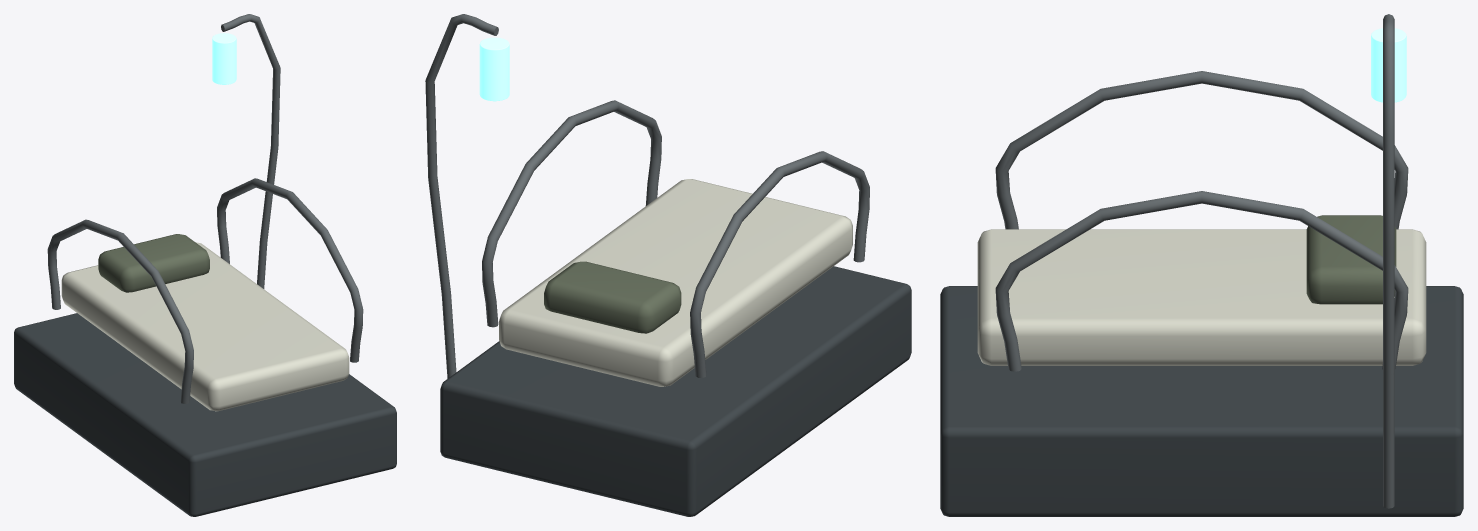
The model's file is map-medbay.glb.
3 views of the same model, side by side, from view 1: azimuth 30°, elevation 25°; view 2: azimuth 150°, elevation 25°; view 3: azimuth 270°, elevation 25° (orthographic). The views are drawn at different scales.
Parts seen in each view (by area): view 1: map-medbay; view 2: map-medbay; view 3: map-medbay.
Part boxes in pixels (left/top/right/bottom): map-medbay: left=14, top=14, right=396, bottom=516; map-medbay: left=425, top=14, right=911, bottom=516; map-medbay: left=940, top=14, right=1463, bottom=516.
Bounding box in the file's own units: 1.64 × 2.2 × 2.1.
